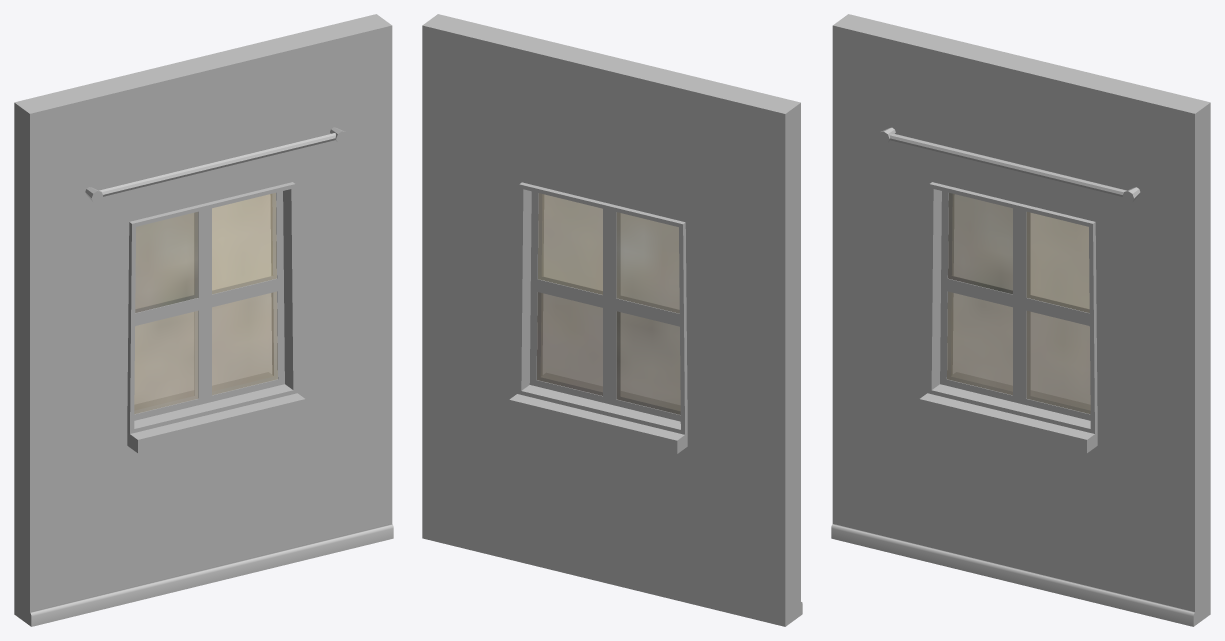
Rendered from Wall_Window.obj.
3 views of the same model, side by side, from view 1: azimuth 30°, elevation 25°; view 2: azimuth 150°, elevation 25°; view 3: azimuth 330°, elevation 25° (orthographic).
Parts seen in each view (by area): view 1: Wall_Window; view 2: Wall_Window; view 3: Wall_Window.
Boxes of the visible parts, bbox=[...] form: Wall_Window: bbox=[14, 14, 393, 626]; Wall_Window: bbox=[422, 14, 802, 626]; Wall_Window: bbox=[831, 14, 1210, 626].
Size of the model in its own units: 2 by 2.7 by 0.3534.
